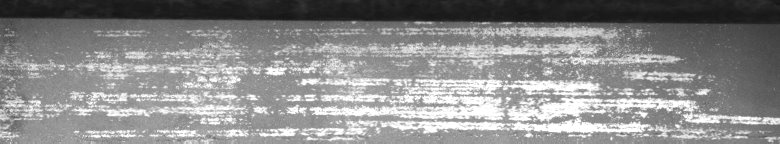kb: (4, 13, 776, 136)
